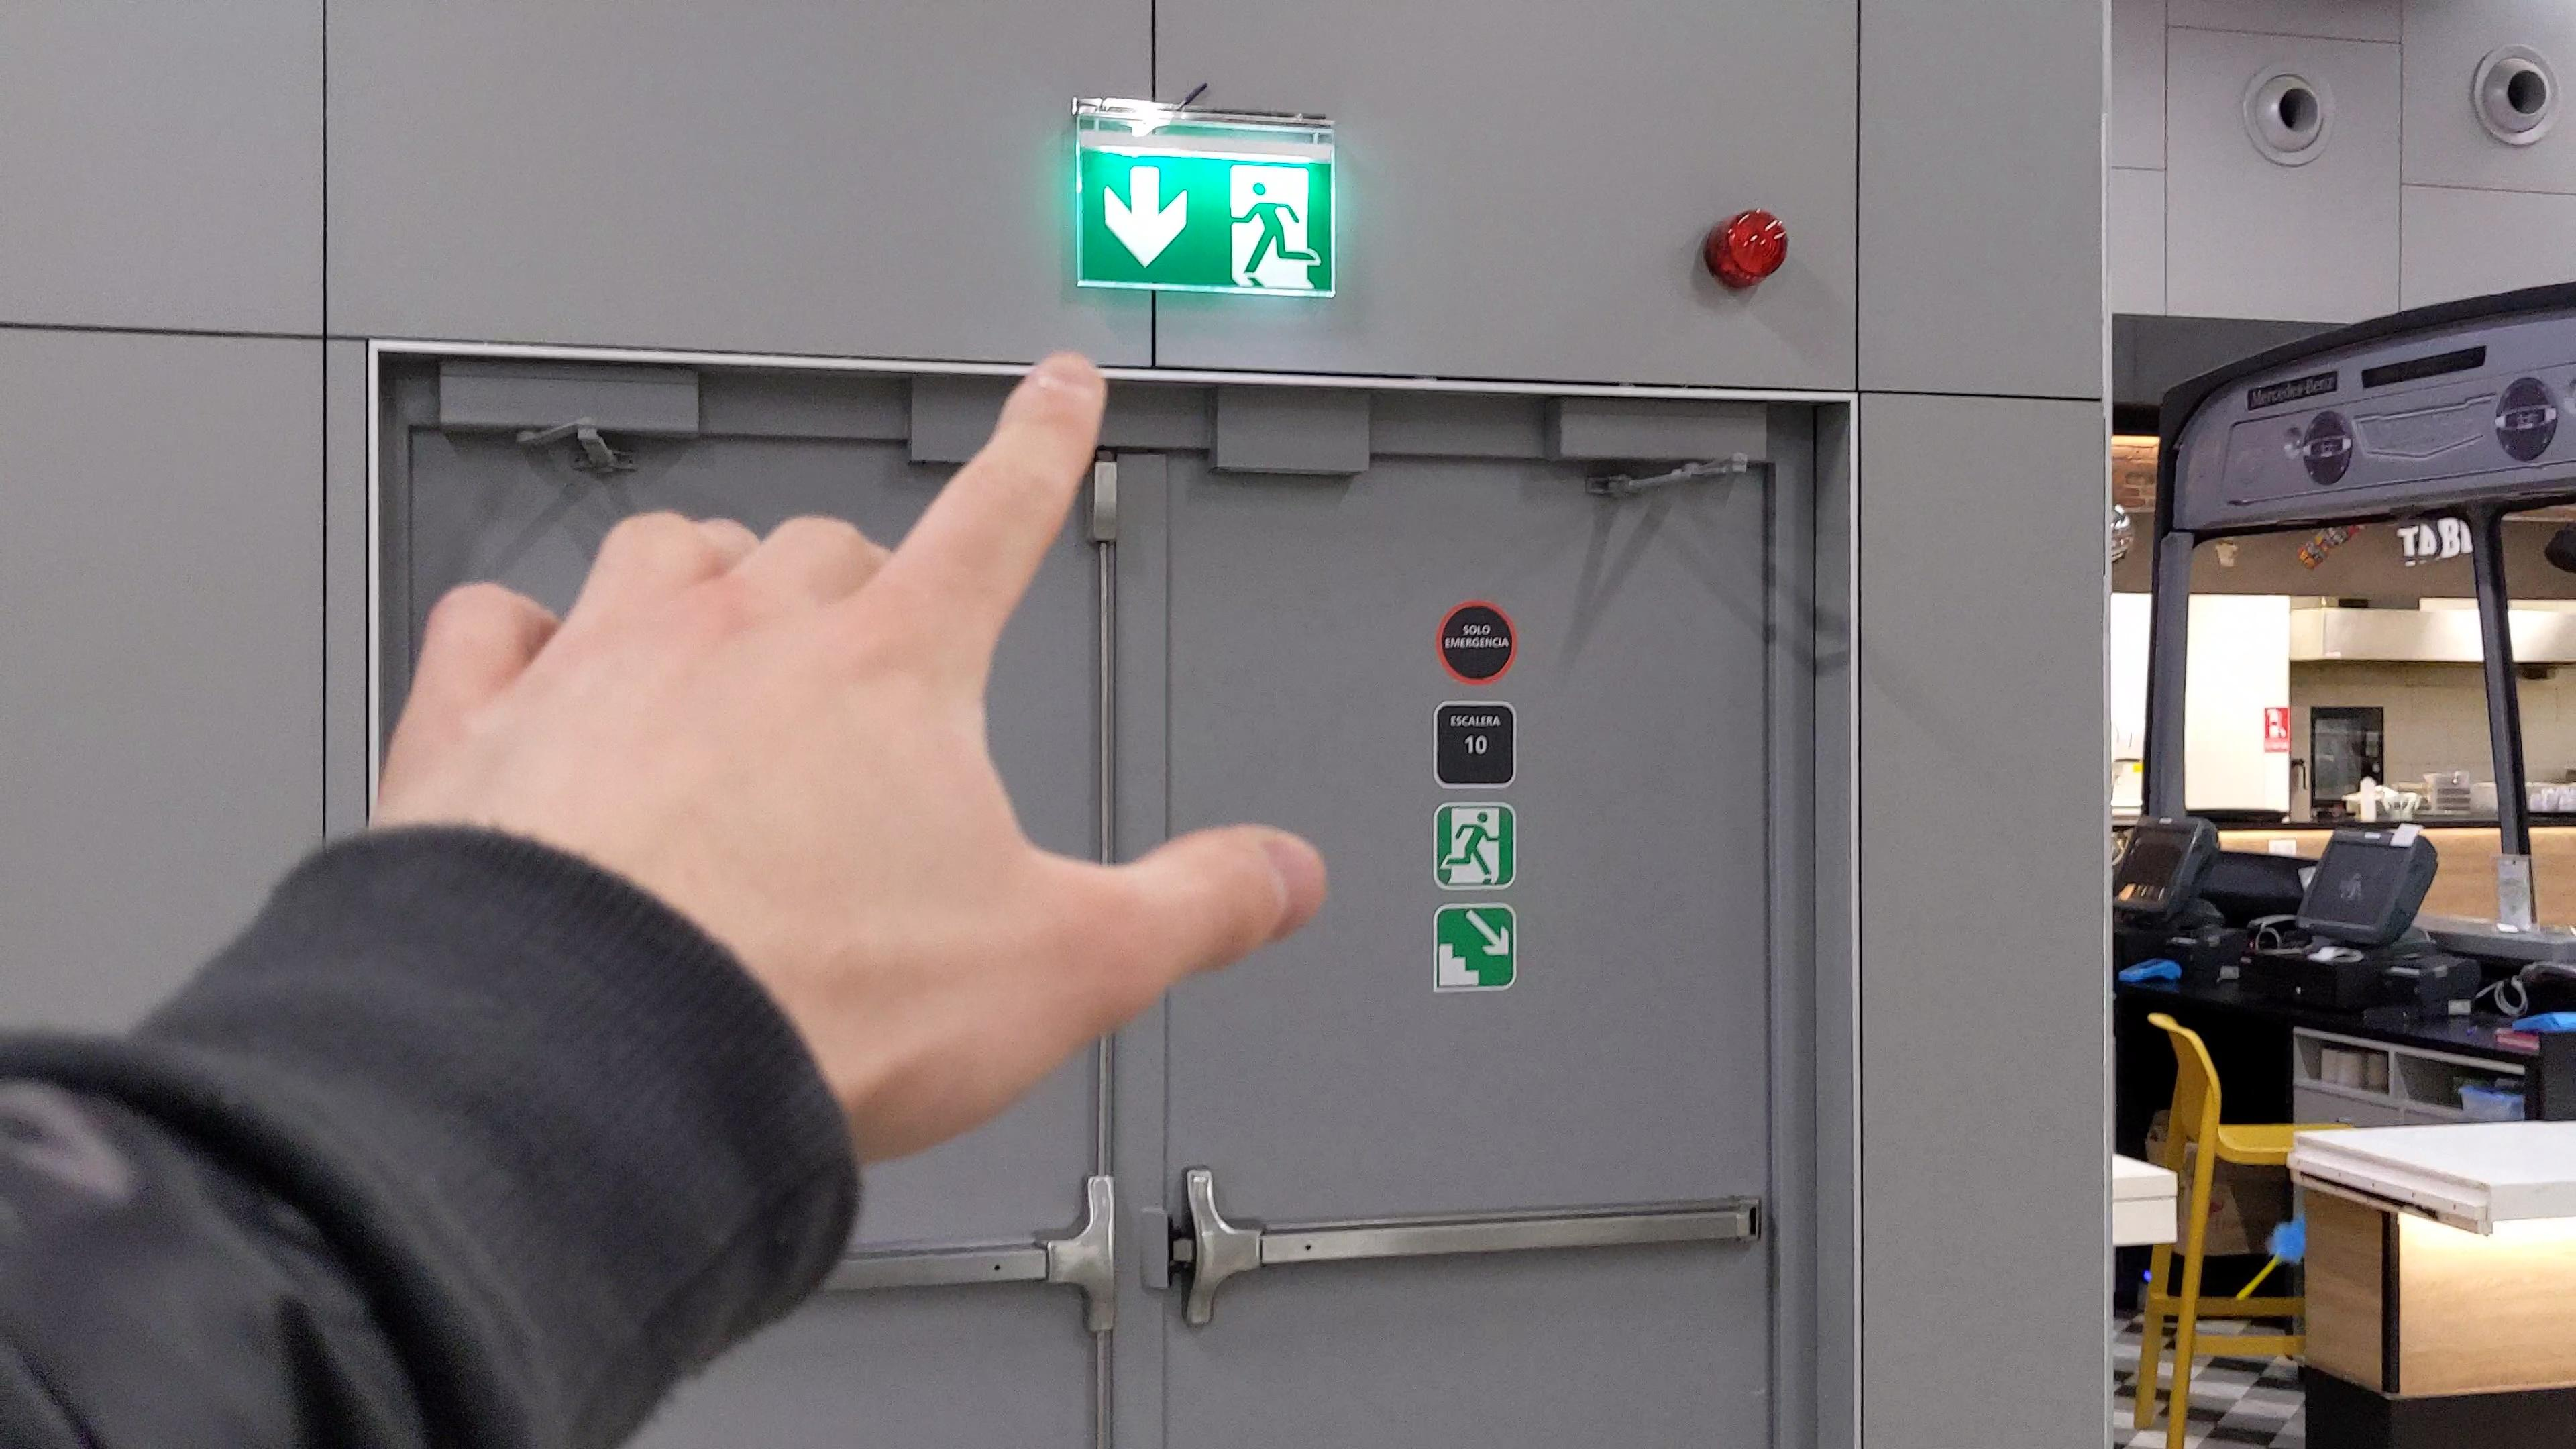emergency exit: (1228, 163, 1322, 290), (1438, 805, 1503, 890)
left arrow: (1102, 165, 1189, 267)
